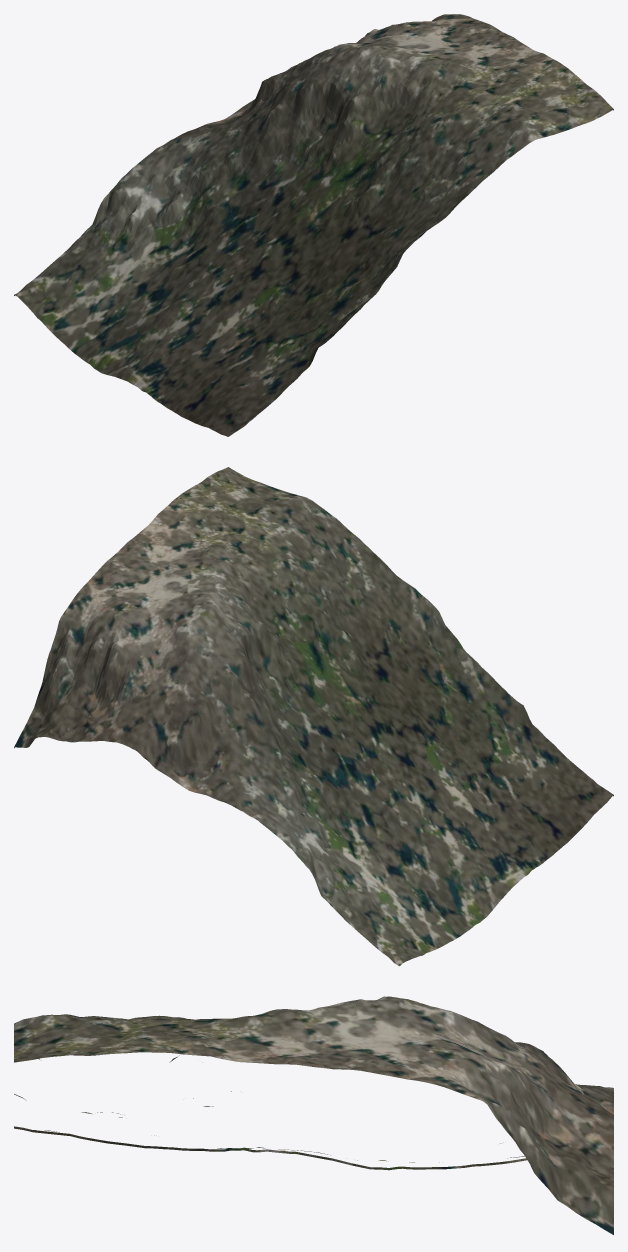
The picture shows the model from 3 angles, top to bottom: view 1: azimuth 30°, elevation 25°; view 2: azimuth 150°, elevation 25°; view 3: azimuth 270°, elevation 25°; orthographic projection. The views are drawn at different scales.
Bounding box in the file's own units: 250 × 169 × 241.
1 material, 1 textured.
